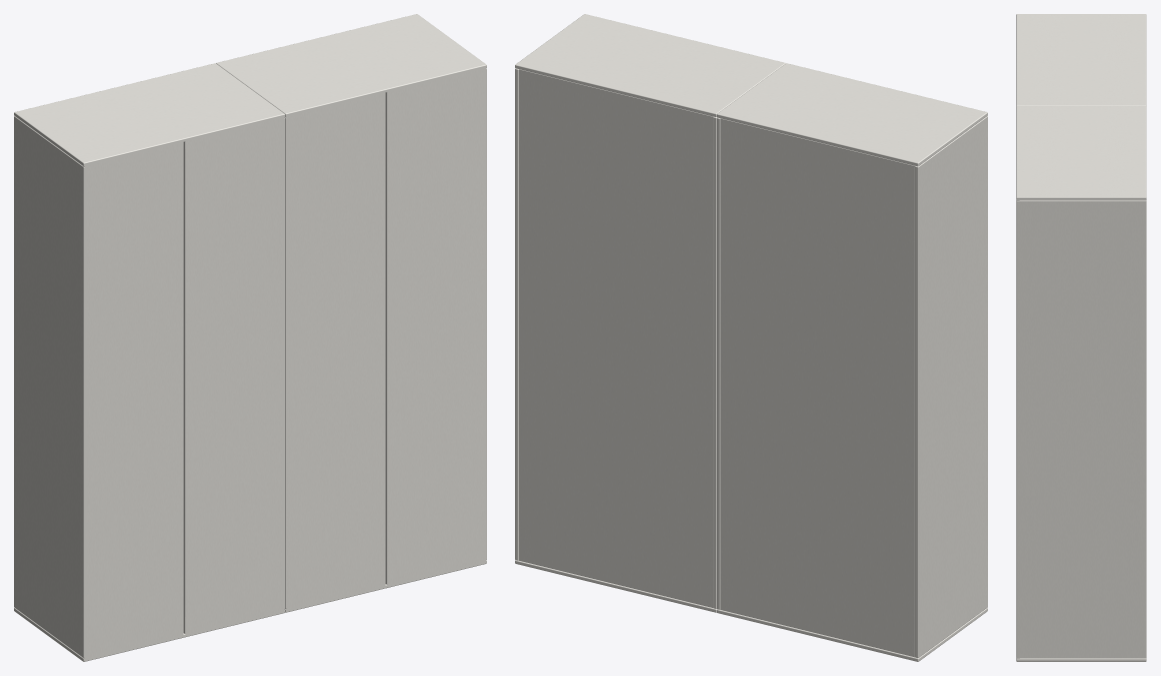
Rendered from pax-wide-tall-mobile.glb.
3 views of the same model, side by side, from view 1: azimuth 30°, elevation 25°; view 2: azimuth 150°, elevation 25°; view 3: azimuth 270°, elevation 25° (orthographic). The views are drawn at different scales.
Parts seen in each view (by area): view 1: PAX / FORSAND Wardrobe, 200 cm wide, tall; view 2: PAX / FORSAND Wardrobe, 200 cm wide, tall; view 3: PAX / FORSAND Wardrobe, 200 cm wide, tall.
Part boxes in pixels (box(x1,y1,x2,y2)): PAX / FORSAND Wardrobe, 200 cm wide, tall: box(14, 14, 486, 661); PAX / FORSAND Wardrobe, 200 cm wide, tall: box(515, 14, 987, 661); PAX / FORSAND Wardrobe, 200 cm wide, tall: box(1016, 14, 1146, 661).
Bounding box in the file's own units: 2 × 2.36 × 0.6.
Materials: 1 (1 with a texture image).
